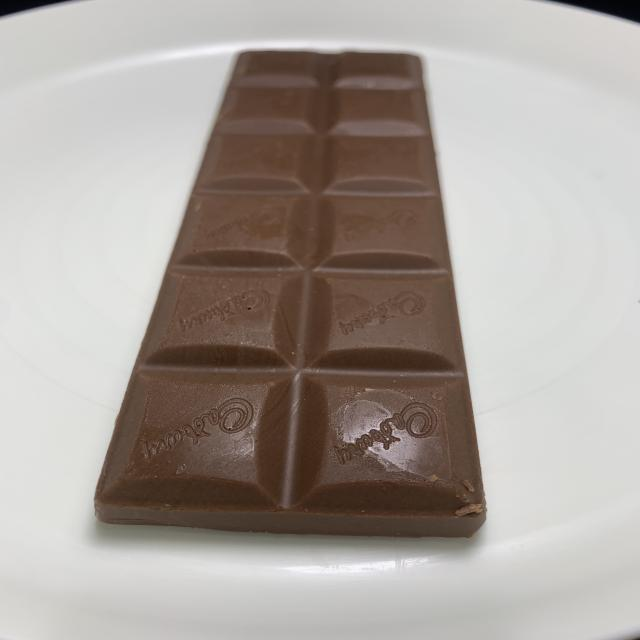Chocolate: (93, 44, 491, 540)
